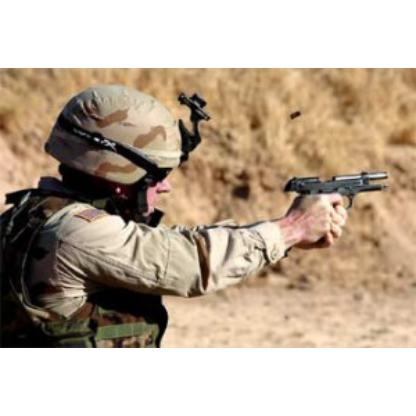gun: (284, 168, 390, 246)
